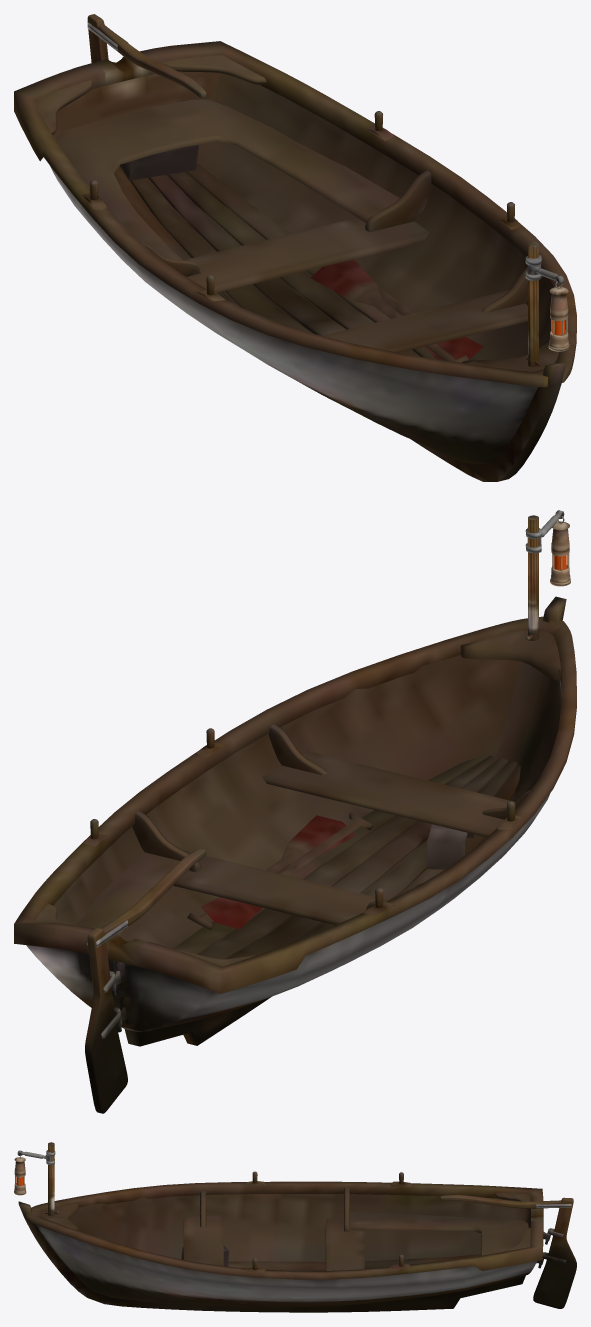
File: rowboat.glb
3 views of the same model, one above another, from view 1: azimuth 30°, elevation 25°; view 2: azimuth 150°, elevation 25°; view 3: azimuth 270°, elevation 25° (orthographic). The views are drawn at different scales.
Visible parts, largest first — view 1: defaultMaterial; view 2: defaultMaterial; view 3: defaultMaterial.
Boxes of the visible parts, bbox=[...] form: defaultMaterial: bbox=[14, 14, 576, 481]; defaultMaterial: bbox=[14, 510, 576, 1113]; defaultMaterial: bbox=[14, 1142, 576, 1312].
Size of the model in its own units: 0.7774 by 0.6558 by 2.
Materials: 2 (1 with a texture image).
